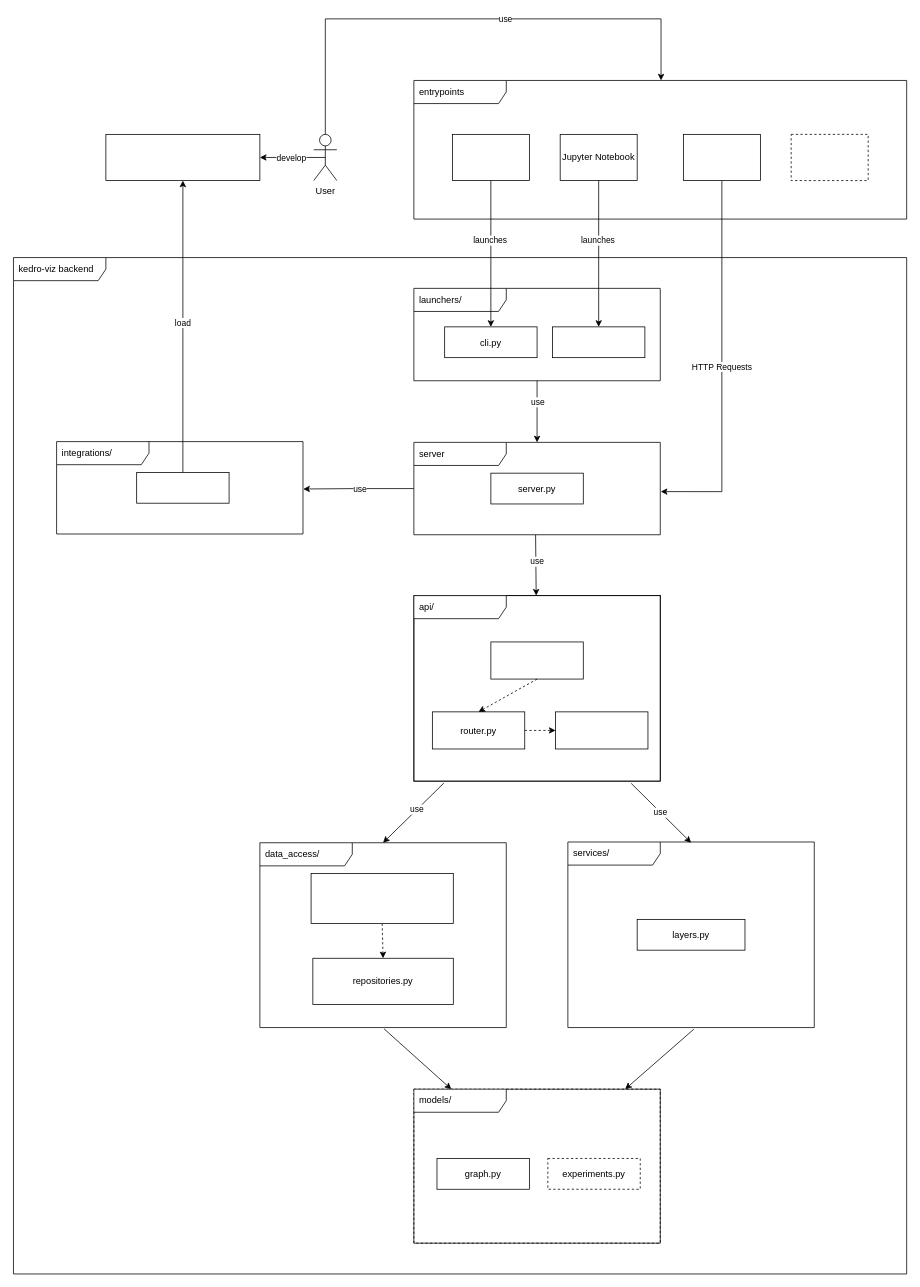
The diagram is 920 pixels wide and 1287 high, and some of its shapes have lost their labels. Here are the shapes that lost their labels. From the top down, the centre of each, then its label:
At [182,157]: "Kedro Project".
At [490,157]: "Terminal".
At [721,157]: "Web Browser".
At [829,157]: "IDEs".
At [598,342]: "jupyter.py".
At [182,487]: "kedro/data_loader.py".
At [536,660]: "apps.py".
At [601,730]: "responses.py".
At [381,898]: "managers.py: data_access_manager".
